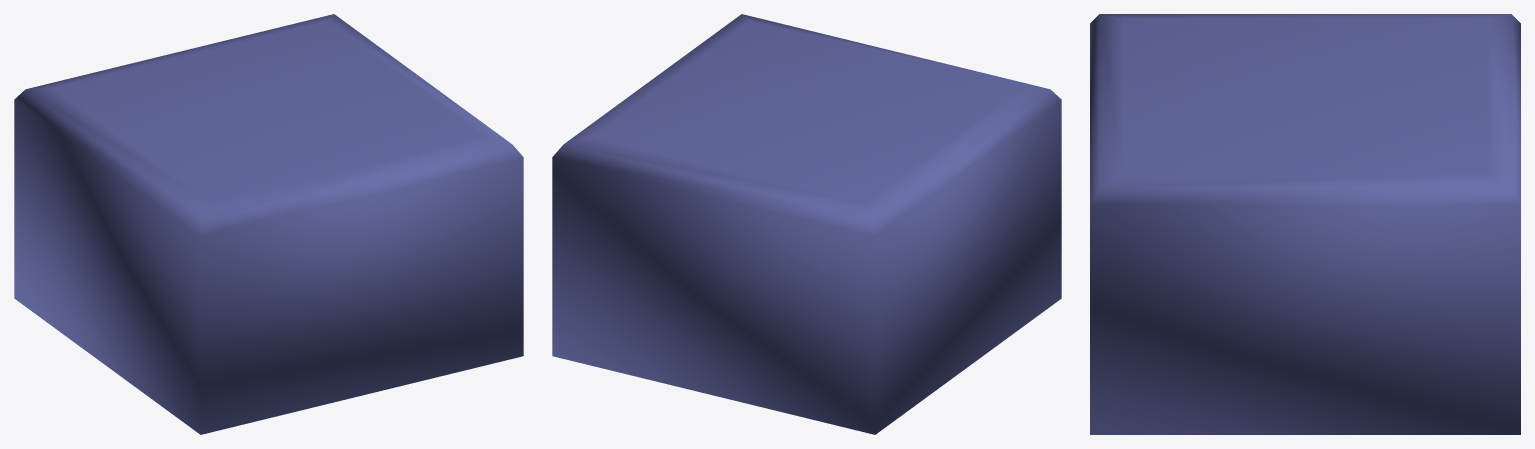
The model's file is tile.dae.
3 renders of one model, left to right at view 1: azimuth 30°, elevation 25°; view 2: azimuth 150°, elevation 25°; view 3: azimuth 270°, elevation 25°, orthographic. The views are drawn at different scales.
Visible parts, largest first — view 1: Cube; view 2: Cube; view 3: Cube.
Part boxes in pixels (box(x1,y1,x2,y2)): Cube: box(14, 14, 523, 434); Cube: box(552, 14, 1061, 434); Cube: box(1090, 14, 1520, 434).
Bounding box in the file's own units: 1 × 1 × 0.6353.
